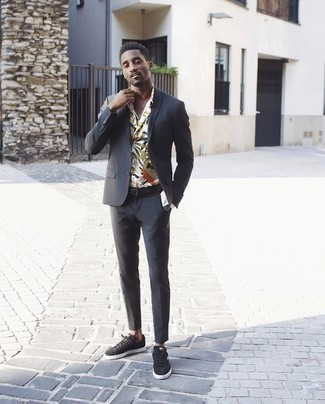F_M_suit jacket: (87, 91, 194, 209)
F_belt: (114, 183, 173, 200)
F_dress pants: (107, 206, 180, 331)
